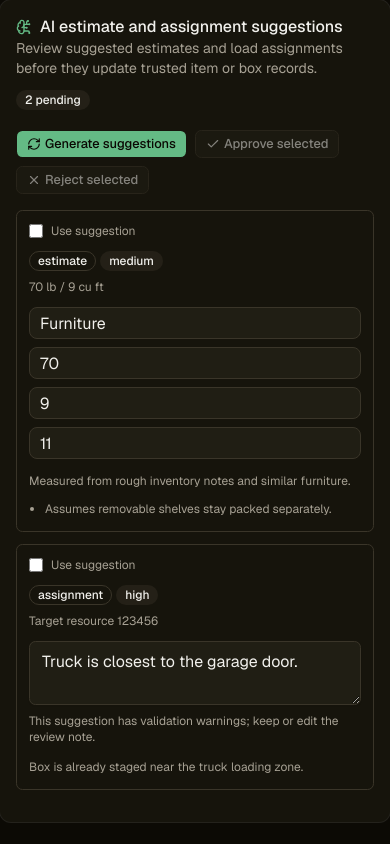
Test: AiPlanningSuggestions › renders mobile cards and desktop table from the same pending suggestions
The image size is (390, 844).
expect the text "70 lb / 9 cu ft" is shown: met, box [29,279,104,295]
expect the text "Target resource 123456" is shown: met, box [29,613,158,629]
Click the checkbox named "Use estimate suggestion".
click(36, 231)  # box [29,224,43,238]
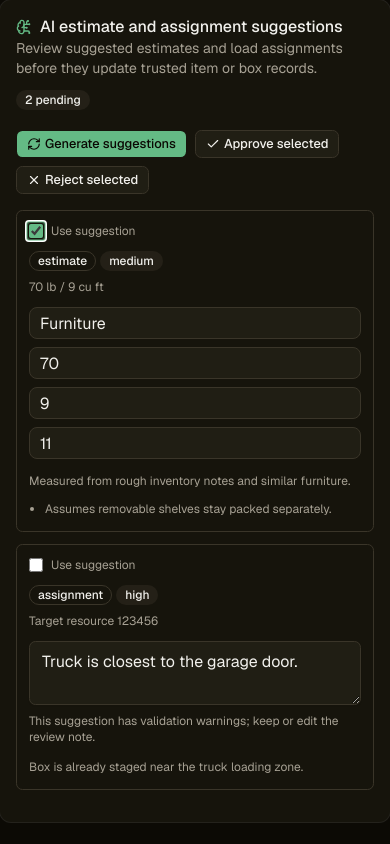
expect the checkbox named "Use estimate suggestion" is checked: met, box [29,224,43,238]
expect the button "Approve selected" is enabled: met, box [195,130,340,158]
